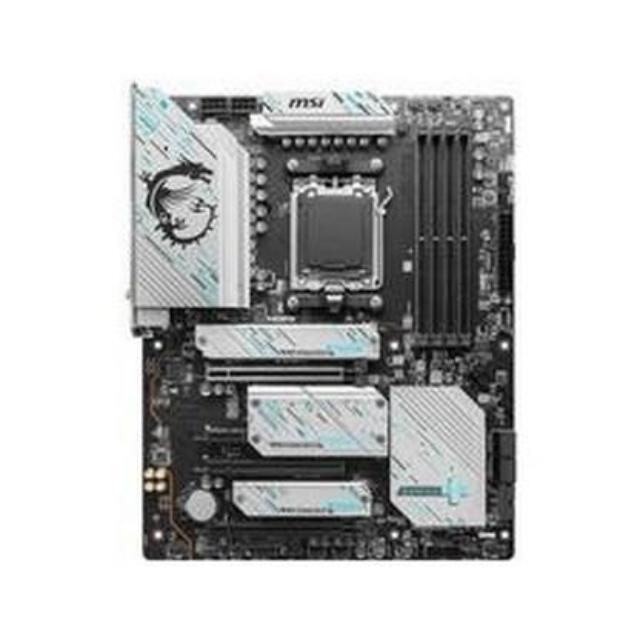Mainboard: (124, 85, 518, 560)
